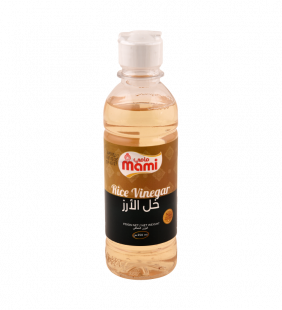MAMI: (98, 25, 184, 285)
